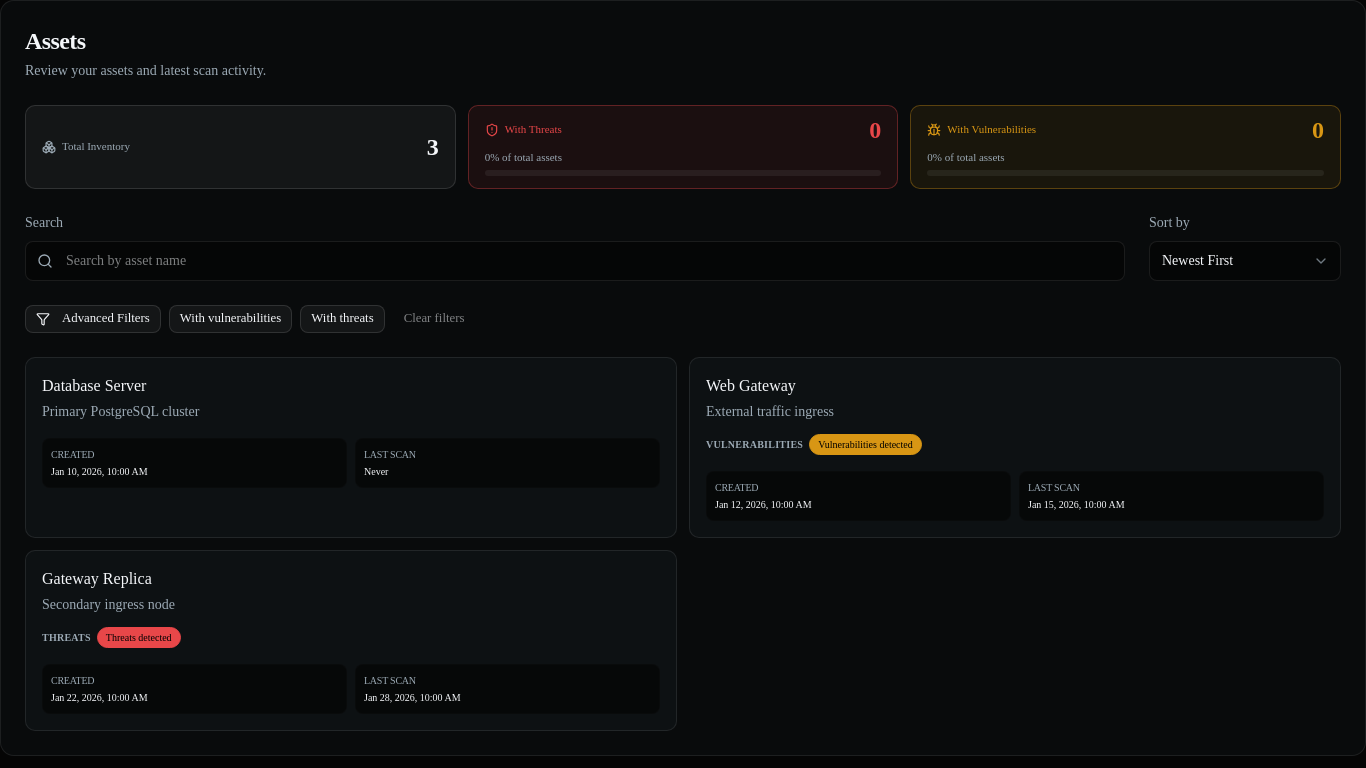
Test case: AssetsList › shows and hides advanced filters panel
Expected: the field labelled "Last scan from" is not shown
Click the button "Advanced Filters".
click(93, 319)  # box x1=25 y1=305 x2=161 y2=333
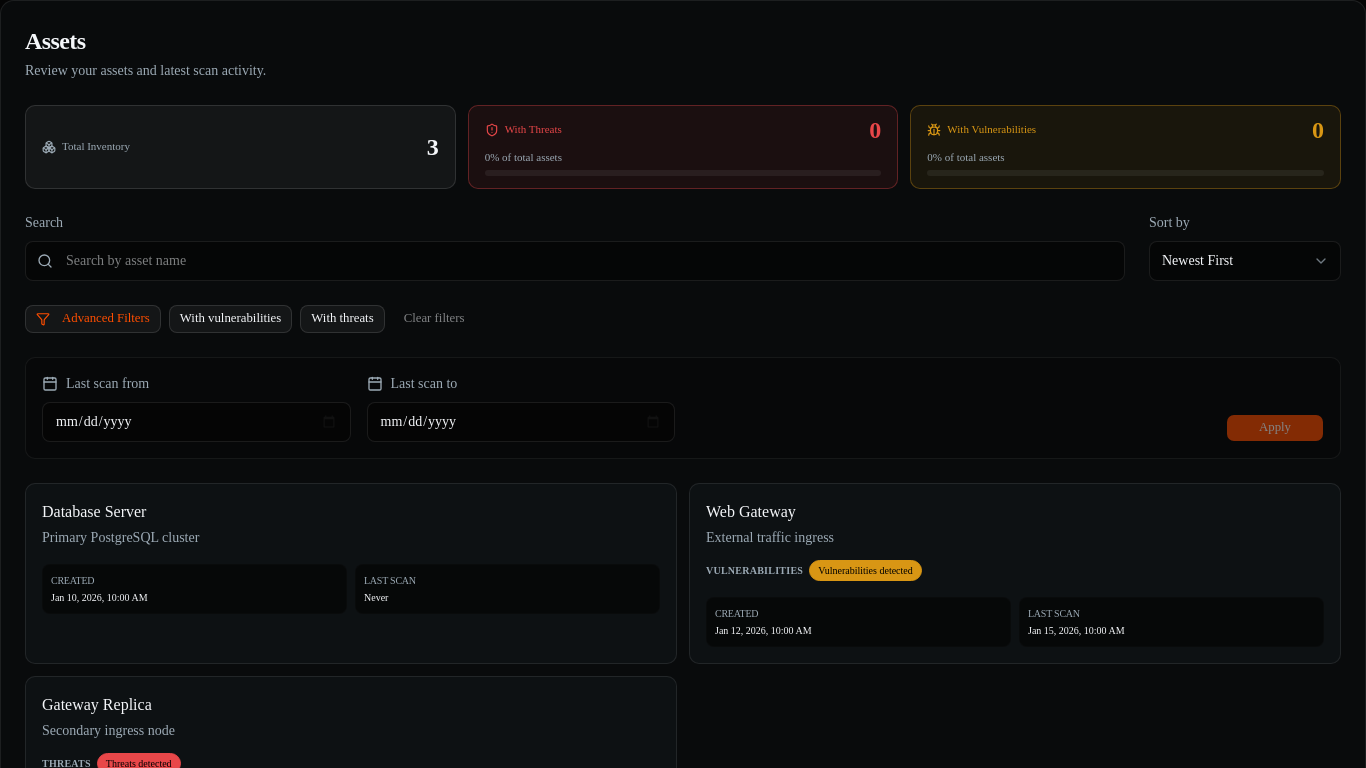
Now the date field labelled "Last scan from" is shown, box x1=42 y1=402 x2=350 y2=442
Now the date field labelled "Last scan to" is shown, box x1=366 y1=402 x2=675 y2=442
